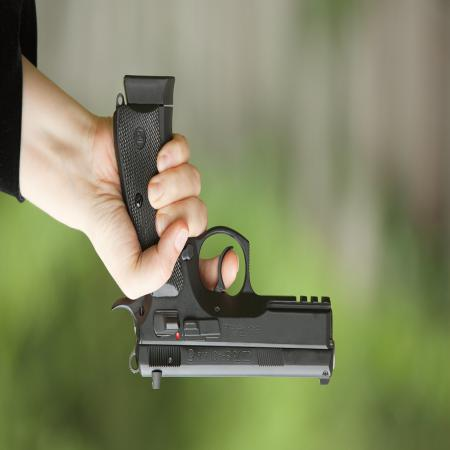Pistol: (112, 72, 339, 390)
